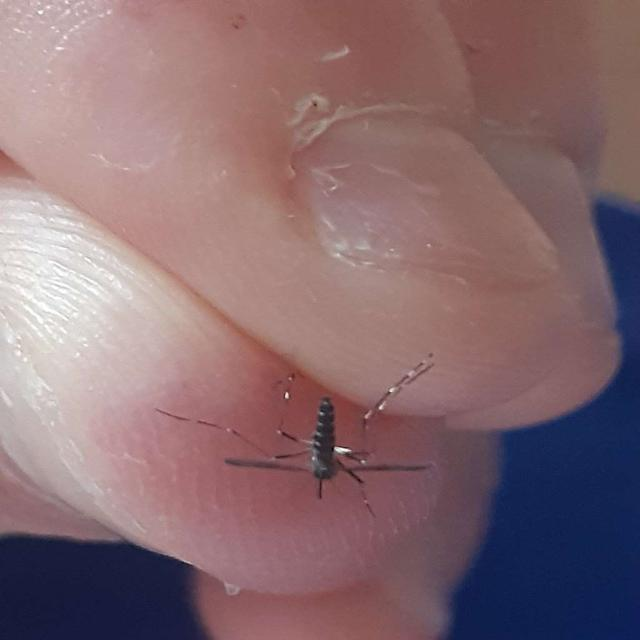albopictus: (152, 353, 446, 513)
